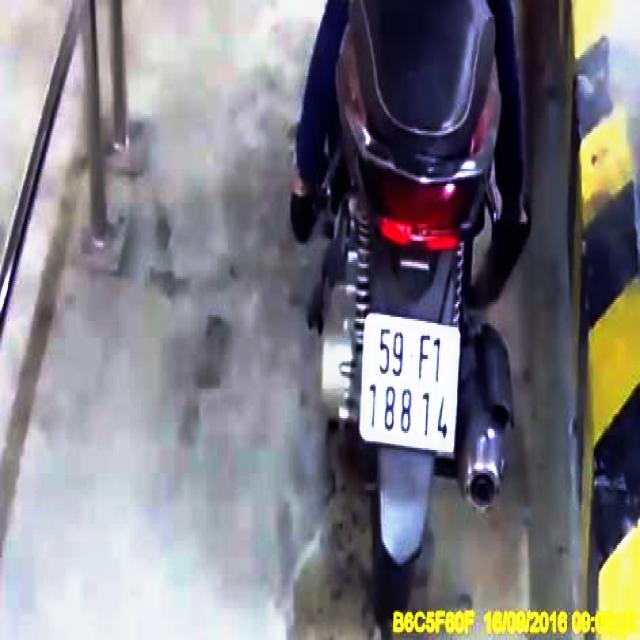license_plate: (362, 313, 463, 455)
